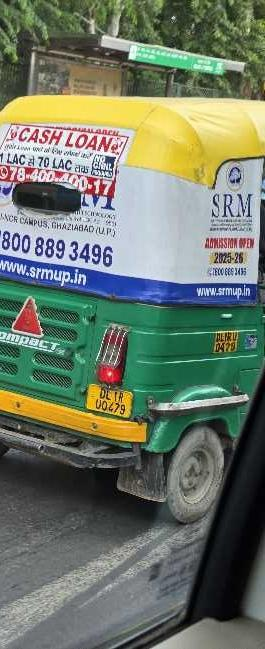License plate: (86, 386, 133, 418)
